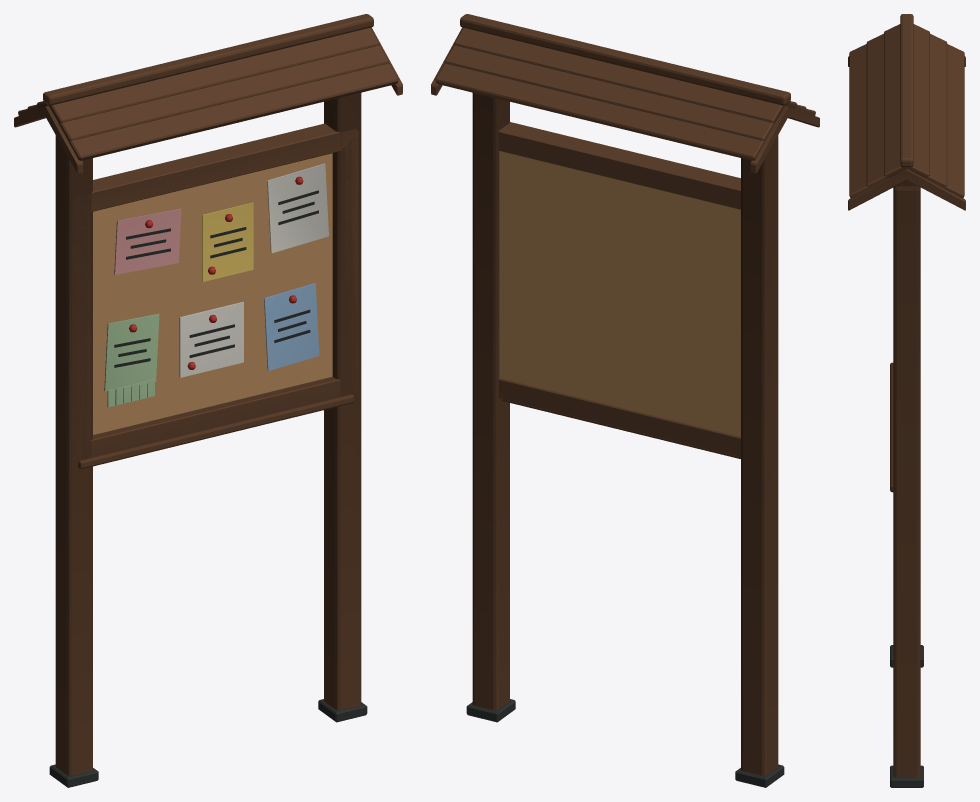
The model's file is noticeBoard.glb.
The picture shows the model from 3 angles, left to right: view 1: azimuth 30°, elevation 25°; view 2: azimuth 150°, elevation 25°; view 3: azimuth 270°, elevation 25°; orthographic projection. The views are drawn at different scales.
Visible parts, largest first — view 1: noticeBoard; view 2: noticeBoard; view 3: noticeBoard.
Part boxes in pixels (<box>): noticeBoard: <box>14,14,402,787</box>; noticeBoard: <box>431,14,819,787</box>; noticeBoard: <box>848,14,965,787</box>.
Bounding box in the file's own units: 1.02 × 2.07 × 0.347.
